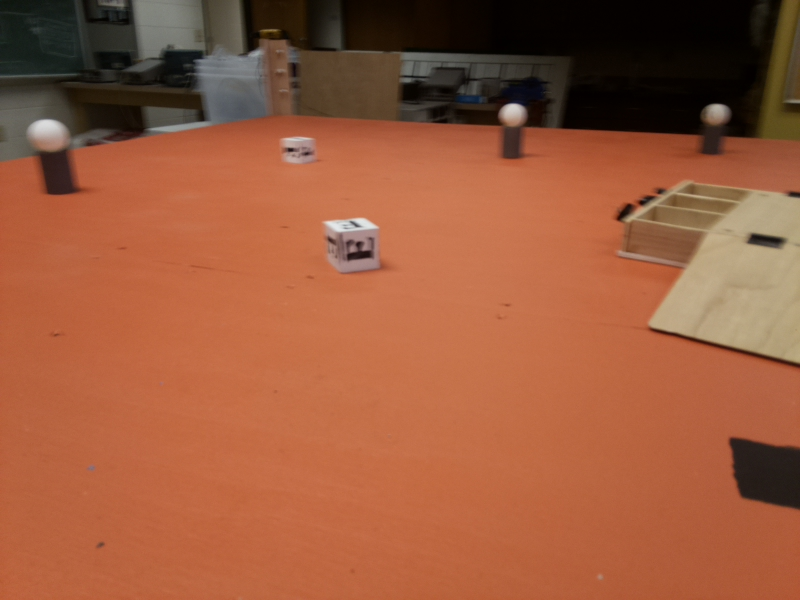blockE: (321, 212, 388, 274)
blockF: (277, 136, 320, 169)
corner: (259, 39, 294, 113)
obstacle: (32, 114, 78, 197), (698, 99, 736, 155), (497, 103, 531, 161)
side: (613, 180, 712, 261)
slope: (662, 237, 800, 358)
start: (707, 418, 800, 514)
